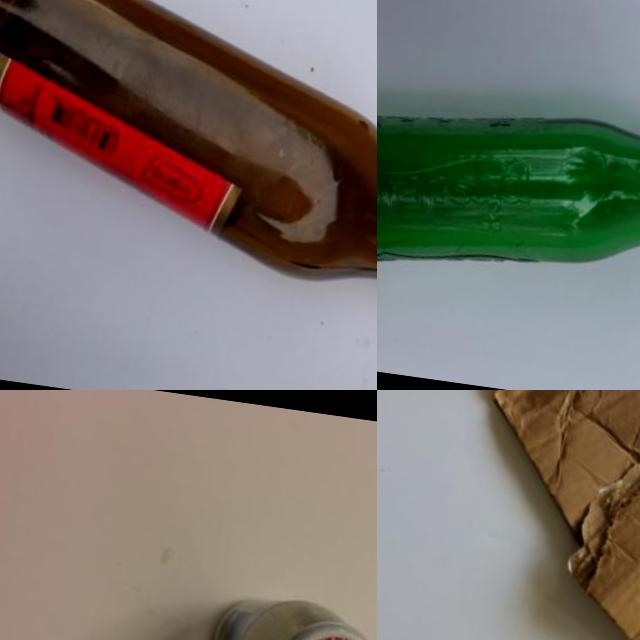garrafa de vidro: (0, 0, 377, 341), (377, 86, 640, 331), (201, 586, 377, 640)
papelão: (453, 390, 640, 640)
